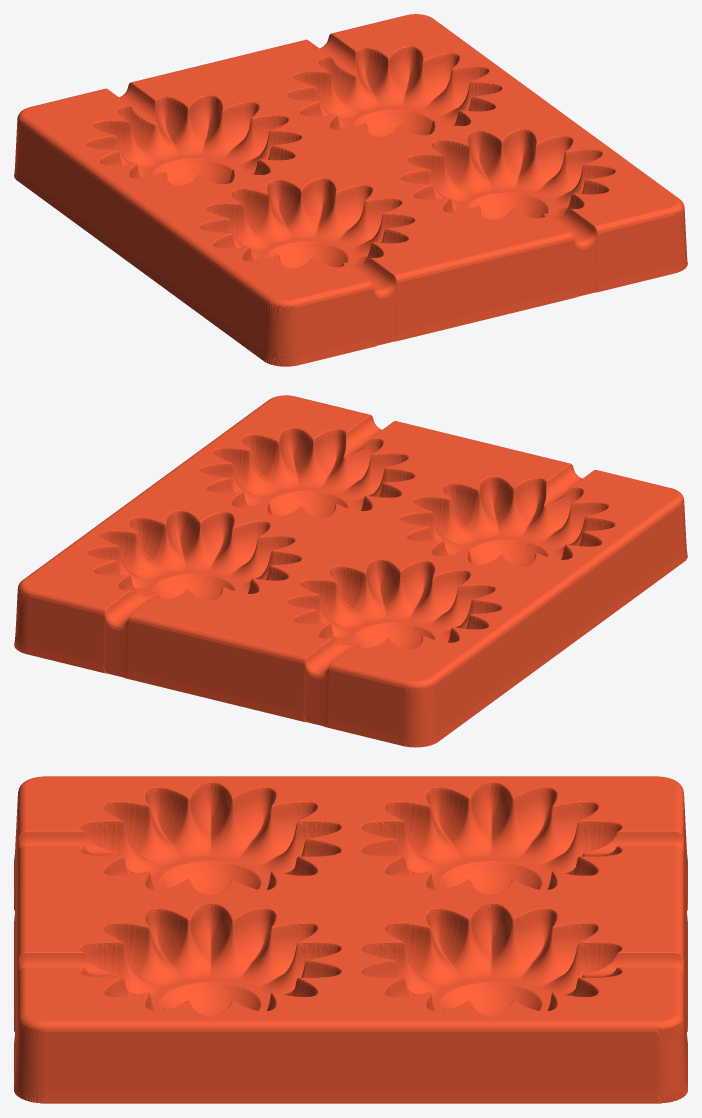
Rendered from mold.glb.
The picture shows the model from 3 angles, top to bottom: view 1: azimuth 30°, elevation 25°; view 2: azimuth 150°, elevation 25°; view 3: azimuth 270°, elevation 25°; orthographic projection. The views are drawn at different scales.
Parts seen in each view (by area): view 1: geometry_0; view 2: geometry_0; view 3: geometry_0.
Boxes of the visible parts, x1,y1,x2,y2 form: geometry_0: (14, 14, 687, 366); geometry_0: (14, 395, 687, 747); geometry_0: (14, 776, 687, 1103).
Size of the model in its own units: 0.1726 by 0.0245 by 0.1934.
